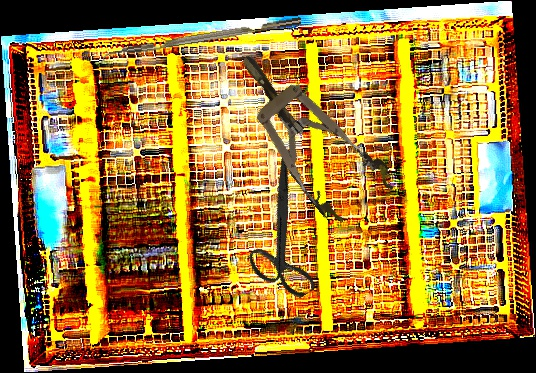Chopper: (98, 17, 304, 67)
Iris Scissors: (208, 150, 359, 312)
Speculum: (214, 31, 401, 234)
